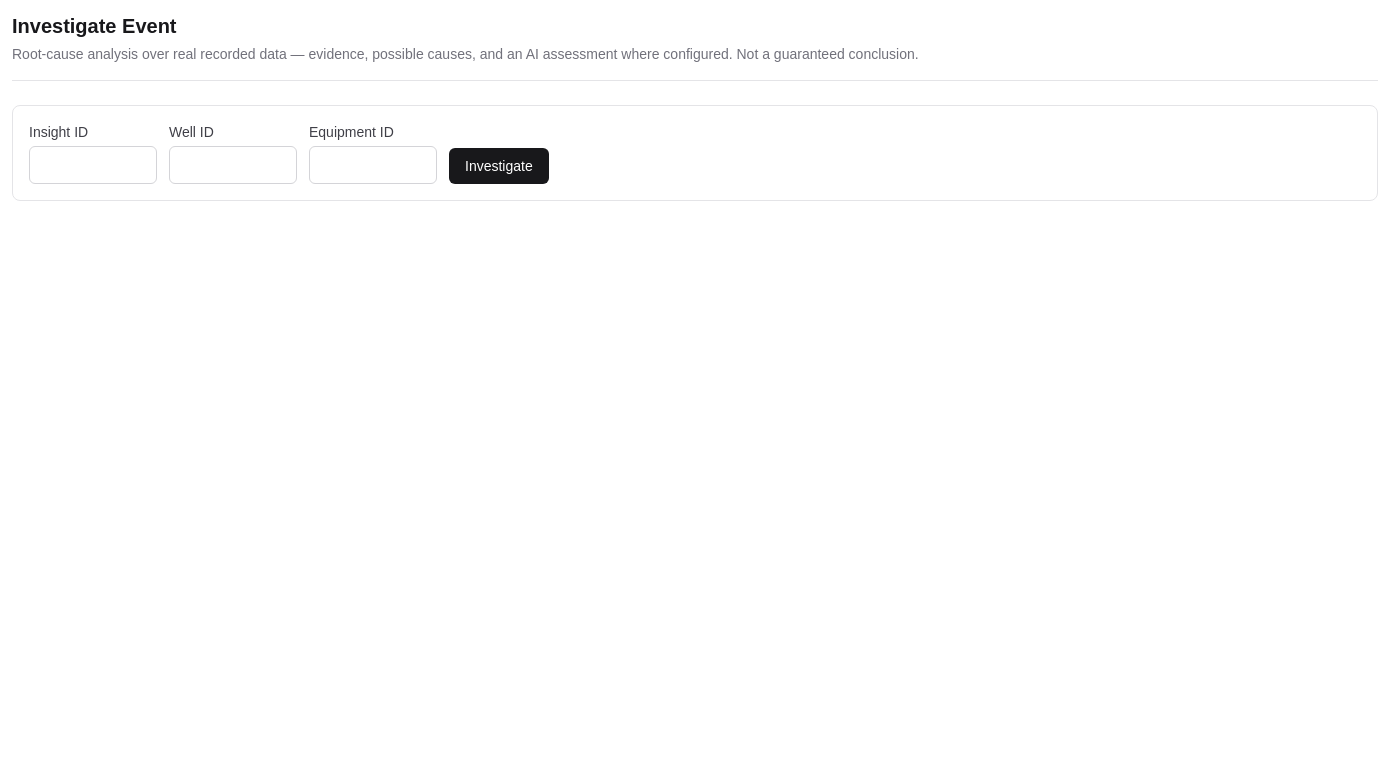
Scenario: InvestigateEventPage › investigates a manually entered well id and renders the structured result
Type "1" into the number field labelled "Well ID".
click(233, 165); type("1")  # box [169,146,297,184]
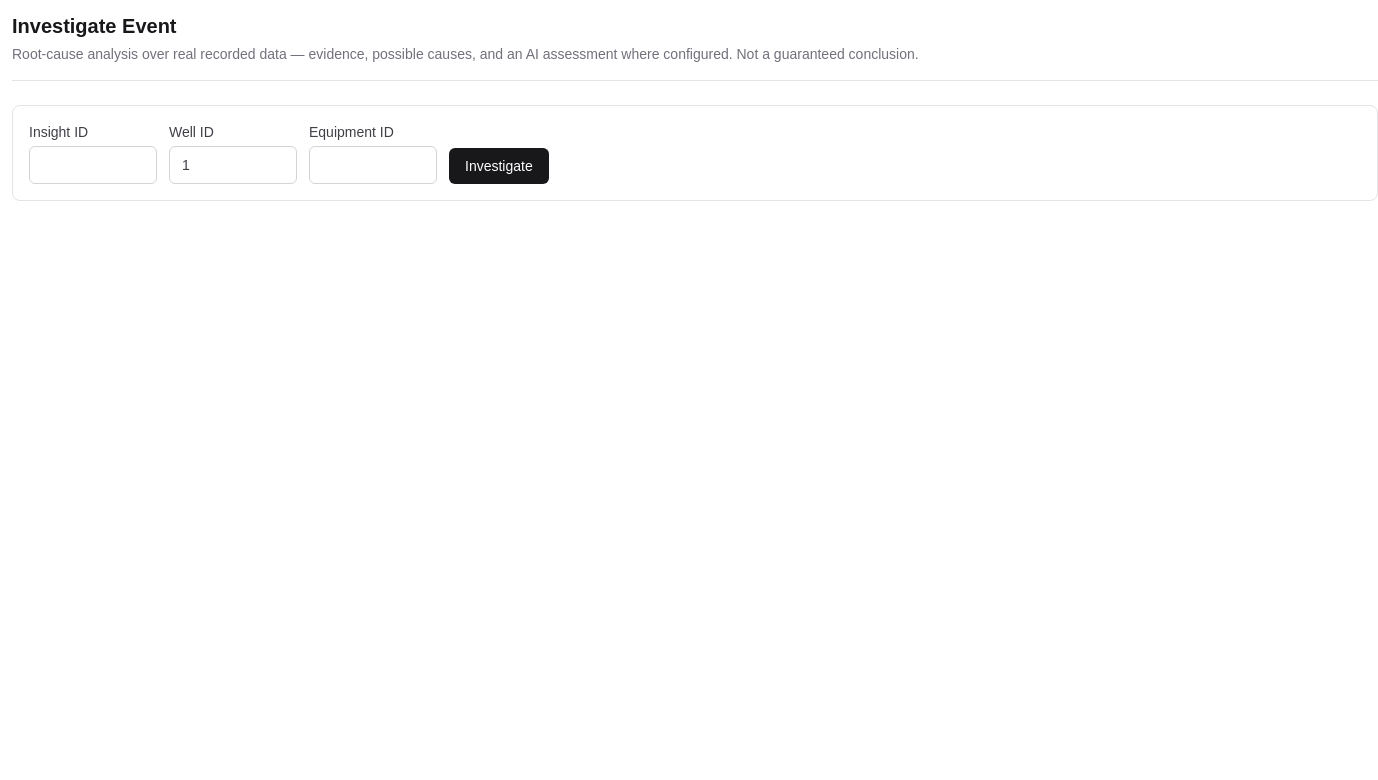
Click the button "Investigate".
click(499, 166)  # box [449,148,549,184]
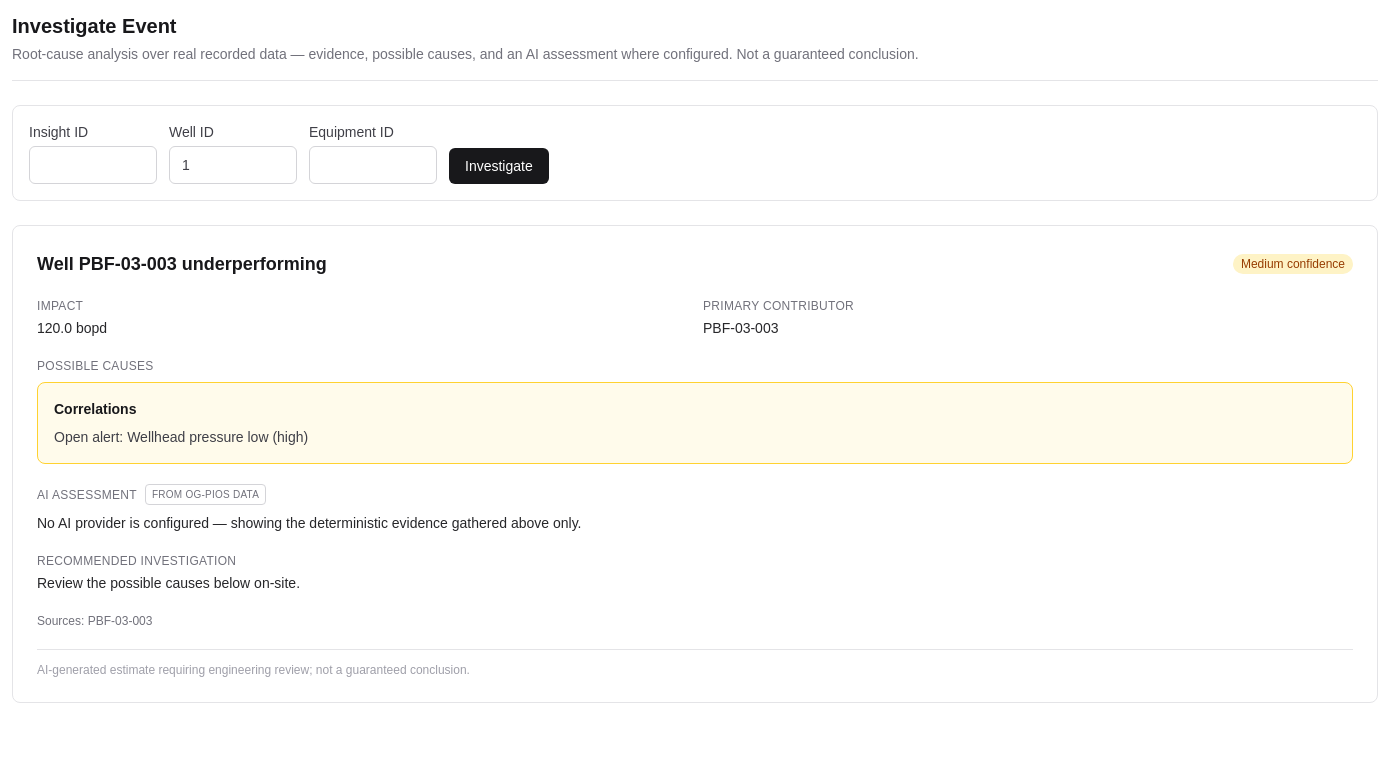
Check: the heading "Well PBF-03-003 underperforming" is shown, box [37,250,327,278]
Check: the list item "Open alert: Wellhead pressure low (high)" is shown, box [54,429,308,445]
